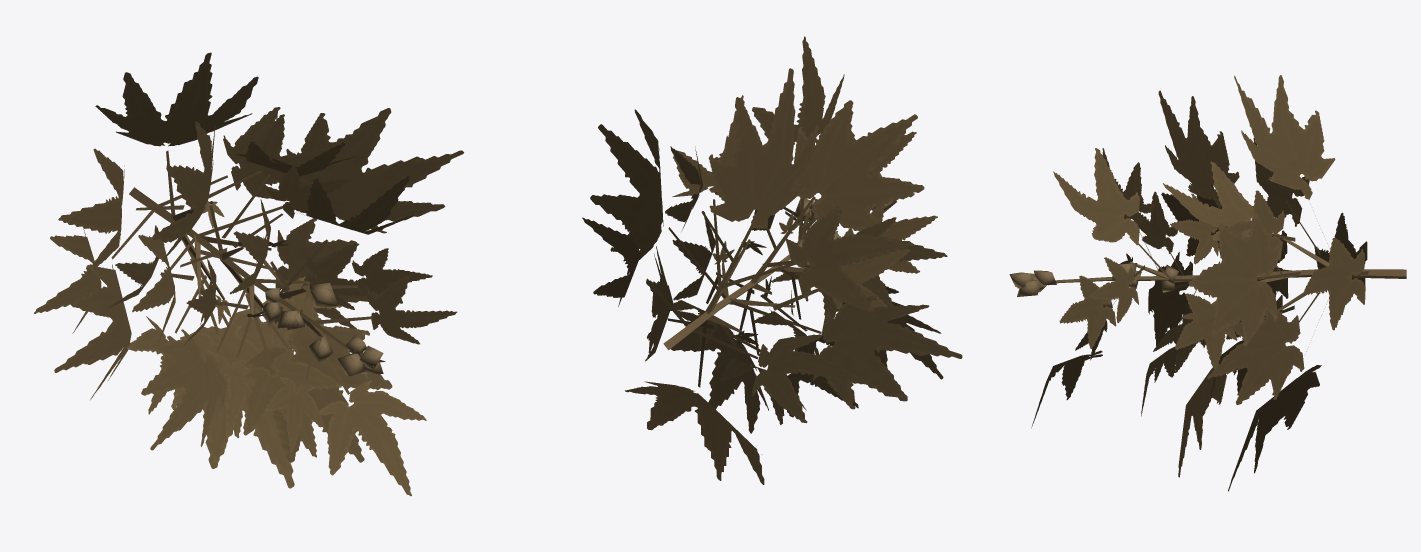
The model's file is p_male_hybrid_preflower_c3_cards.obj.
3 renders of one model, left to right at view 1: azimuth 30°, elevation 25°; view 2: azimuth 150°, elevation 25°; view 3: azimuth 270°, elevation 25°, orthographic. The views are drawn at different scales.
Size of the model in its own units: 1.61 by 1.74 by 1.4.
Materials: 1 (1 with a texture image).
